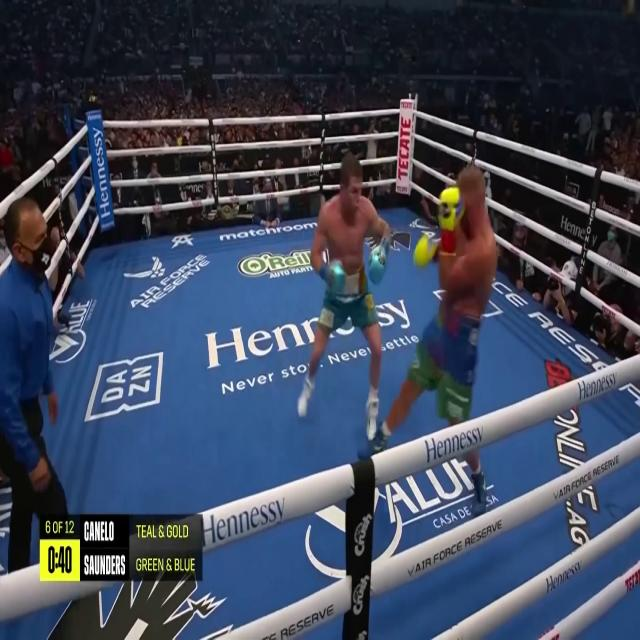boxer_1: (446, 166, 496, 318)
boxer_2: (326, 152, 365, 274)
gloves_1: (414, 187, 464, 265)
gloves_2: (368, 237, 390, 286), (319, 260, 346, 292)
